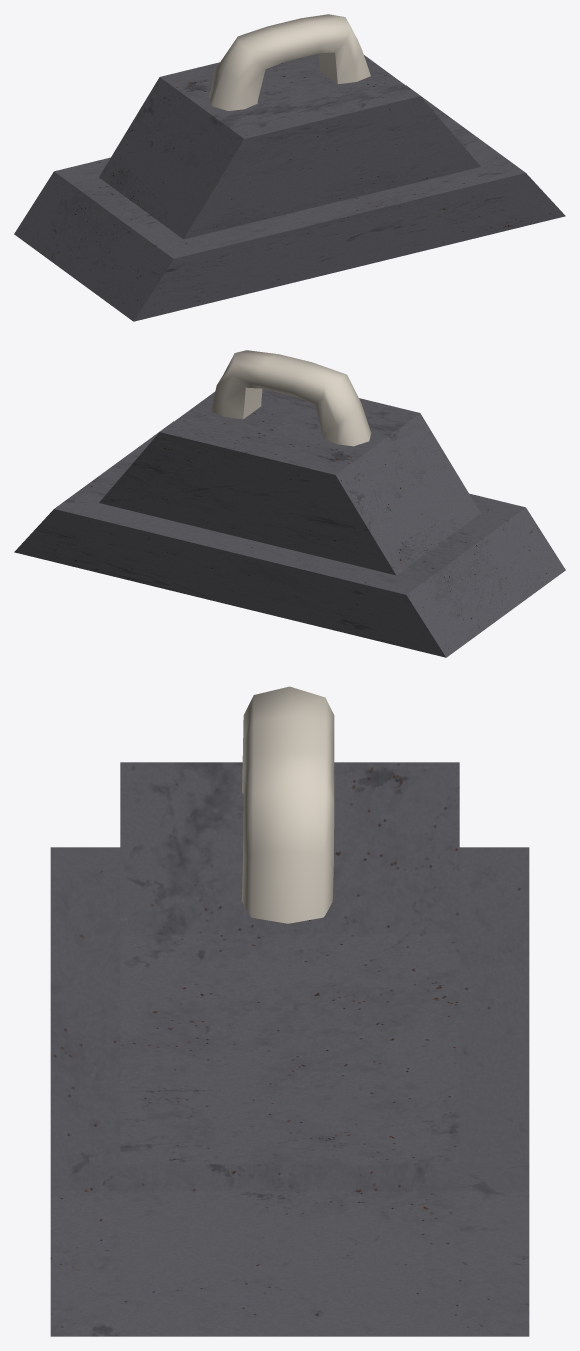
File: Plancha.fbx
The picture shows the model from 3 angles, top to bottom: view 1: azimuth 30°, elevation 25°; view 2: azimuth 150°, elevation 25°; view 3: azimuth 270°, elevation 25°; orthographic projection. The views are drawn at different scales.
Visible parts, largest first — view 1: Plancha, AgarraderaPlancha; view 2: Plancha, AgarraderaPlancha; view 3: Plancha, AgarraderaPlancha.
Boxes of the visible parts, x1,y1,x2,y2 form: Plancha: (14, 53, 565, 321); AgarraderaPlancha: (209, 14, 370, 110); Plancha: (14, 389, 565, 657); AgarraderaPlancha: (210, 350, 371, 446); Plancha: (50, 762, 529, 1336); AgarraderaPlancha: (241, 686, 334, 923).
Size of the model in its own units: 191 by 83.37 by 91.53.
Materials: 1 (1 with a texture image).
